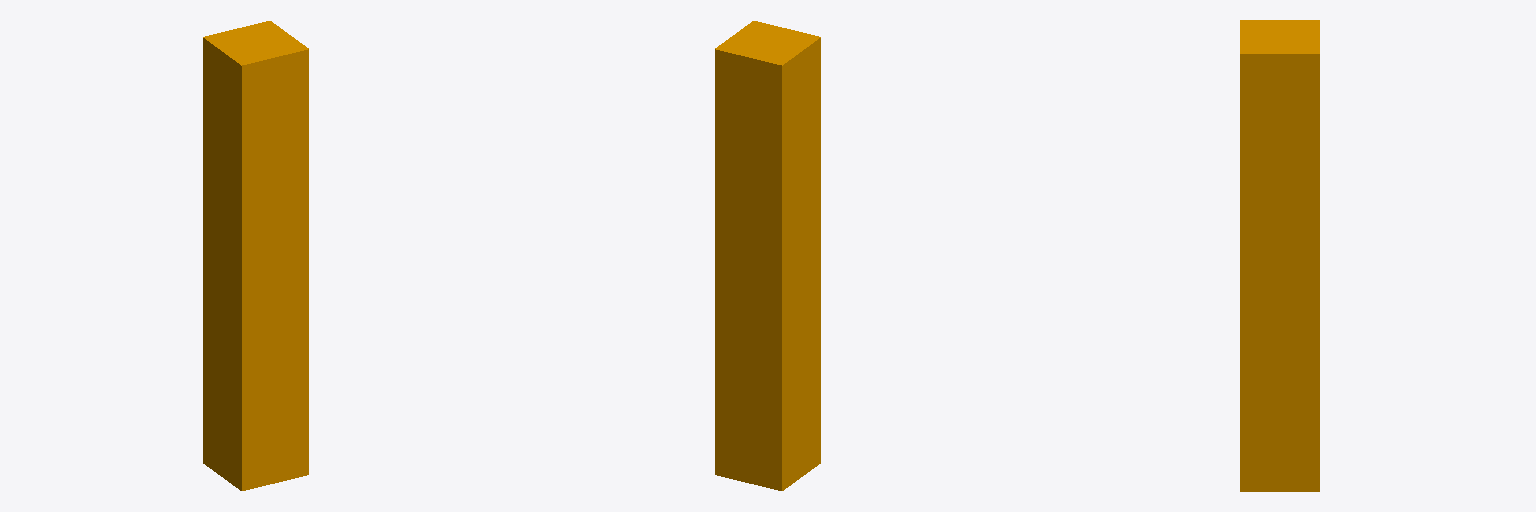
The robot description file, URDF, robot "box":
<?xml version='1.0' encoding='UTF-8'?>
<robot name="box">
  <link name="base_link">
    <inertial>
      <origin xyz="0.0 0.0 0.0" rpy="0.0 -0.0 0.0"/>
      <mass value="1.0"/>
      <inertia ixx="1.0" ixy="0.0" ixz="0.0" iyy="1.0" iyz="0.0" izz="1.0"/>
    </inertial>
    <visual name="base_link_visual">
      <geometry>
        <box size="0.4 0.4 2.4"/>
      </geometry>
      <origin xyz="0 0 1.0" rpy="0 0 0"/>
    </visual>
    <collision name="base_link_collision">
      <geometry>
        <box size="0.4 0.4 2.4"/>
      </geometry>
      <origin xyz="0 0 1.0" rpy="0 0 0"/>
    </collision>
  </link>
</robot>

--- What the picture shows (computed from the rendered views, not written in the file) ---
3 views of the same robot in one strip: view 1: azimuth 30°, elevation 25°; view 2: azimuth 150°, elevation 25°; view 3: azimuth 270°, elevation 25° (orthographic).
Model box with 1 links and 0 joints (none), rooted at base_link, posed every joint at zero.
Visible links, largest first — view 1: base_link; view 2: base_link; view 3: base_link.
Boxes of the visible links, box(x1,y1,x2,y2) form: base_link: box(203, 21, 308, 490); base_link: box(715, 21, 820, 490); base_link: box(1240, 20, 1319, 491).
Bounding box of the posed robot: 0.4 × 0.4 × 2.4 m (x, y, z).
Geometry: primitives only (box / cylinder / sphere), no mesh files.